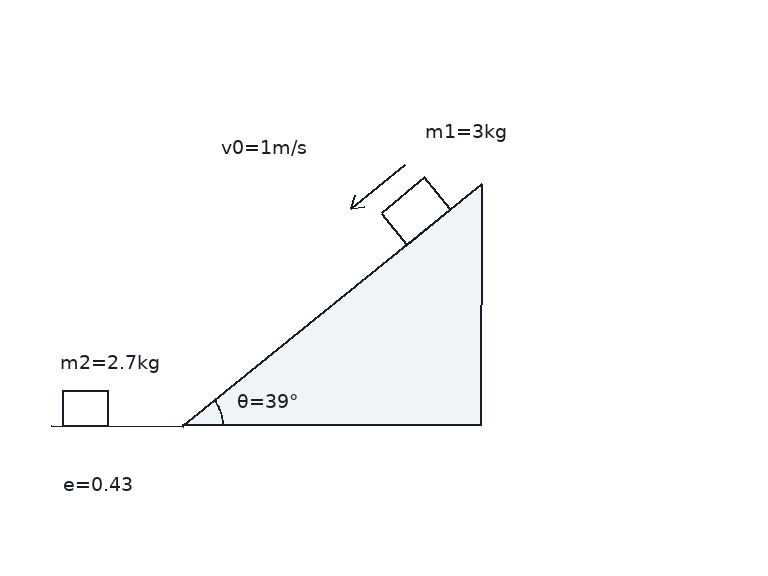block: (378, 176, 451, 246), (60, 389, 110, 427)
ramp: (181, 181, 483, 427)
